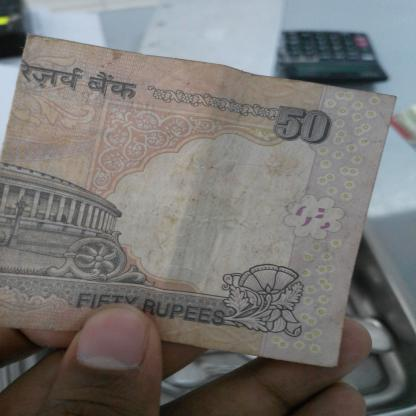Old50Back: (0, 32, 396, 368)
